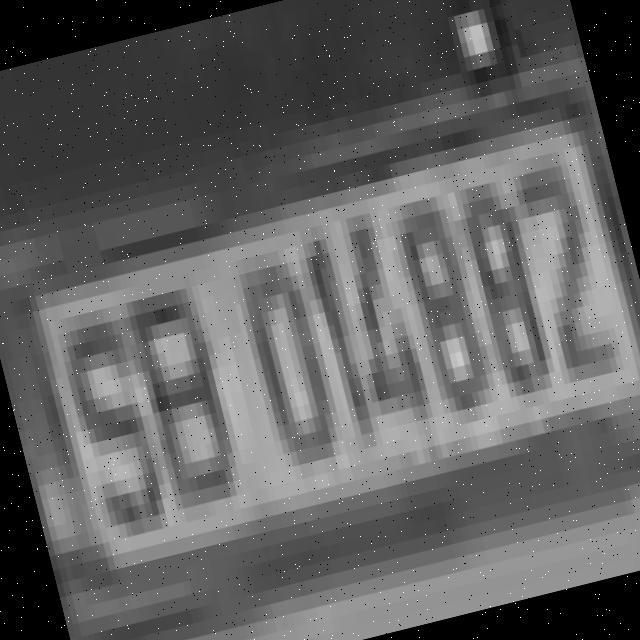Autre: (0, 105, 640, 626)
